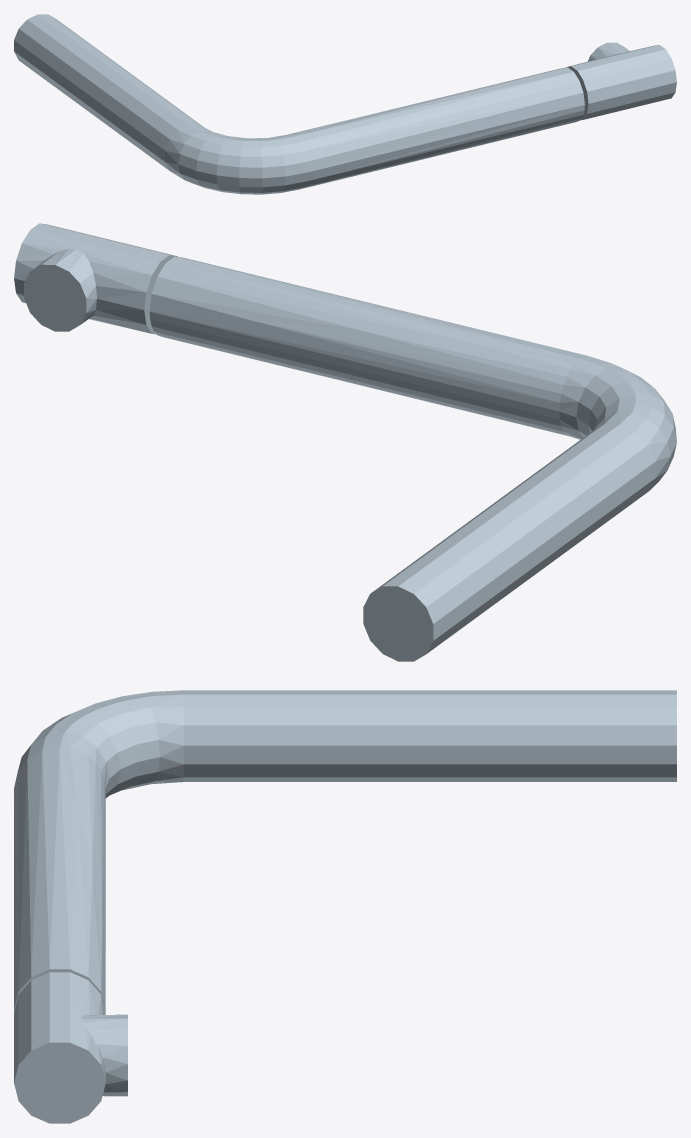
Rendered from mobile-kitchen-counter__Sink_water_outlet.obj.
3 views of the same model, one above another, from view 1: azimuth 30°, elevation 25°; view 2: azimuth 150°, elevation 25°; view 3: azimuth 270°, elevation 25° (orthographic). The views are drawn at different scales.
Visible parts, largest first — view 1: water_outlet_o66_IndexedFaceSet; view 2: water_outlet_o66_IndexedFaceSet; view 3: water_outlet_o66_IndexedFaceSet.
Part boxes in pixels (x1,y1,x2,y2): water_outlet_o66_IndexedFaceSet: (14, 14, 676, 194); water_outlet_o66_IndexedFaceSet: (14, 223, 676, 661); water_outlet_o66_IndexedFaceSet: (14, 690, 676, 1123).
Size of the model in its own units: 0.2547 by 0.027 by 0.195.
